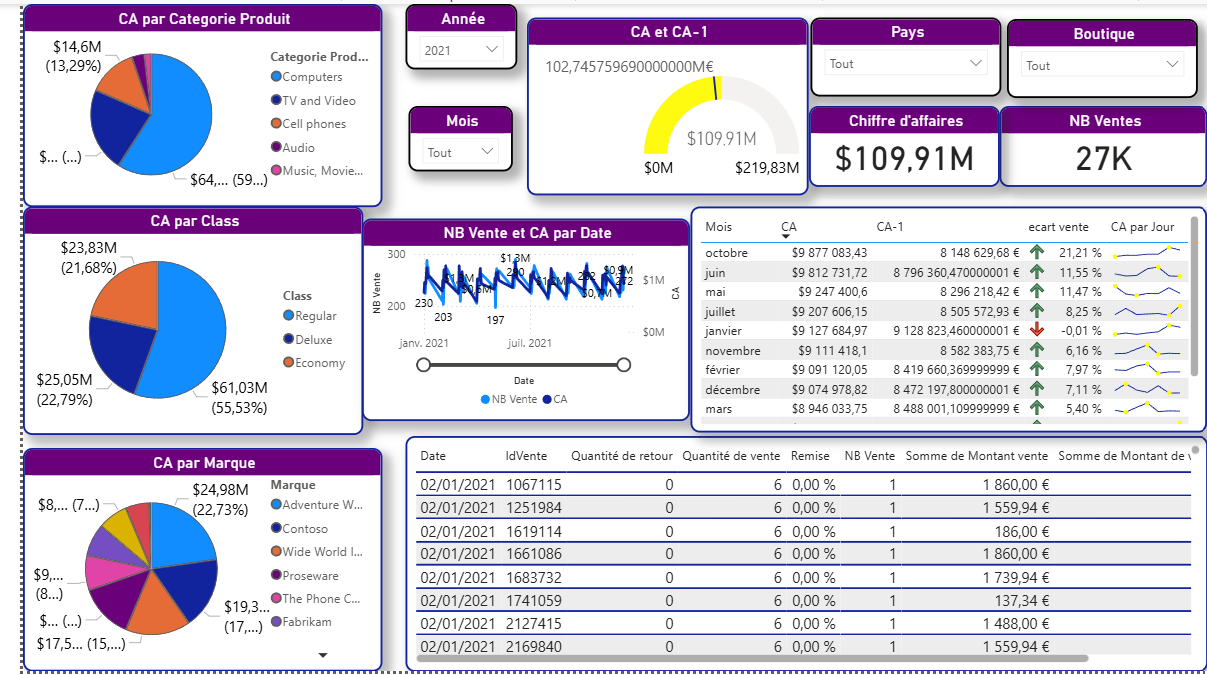

This screenshot's page, from the dashboard's own definition file:
{"tool":"powerbi","page":{"name":"Ventes","canvas":[1280,720],"ordinal":2},"visuals":[{"type":"pieChart","fields":{"Y":["Sales.CA"],"Category":["Categorie Produits.Categorie Produit"]},"box":[0,0,388.1,219.1],"z":0},{"type":"pieChart","fields":{"Y":["Sales.CA"],"Category":["Produits.Class"]},"box":[0,219.1,367.7,247],"z":1000},{"type":"pieChart","fields":{"Y":["Sales.CA"],"Category":["Produits.Marque"]},"box":[0,479.1,388.1,241.4],"z":2000},{"type":"slicer","title":"Année","fields":{"Values":["DateTable.Année"]},"box":[412.5,0,120.8,70.8],"z":3000},{"type":"slicer","title":"Mois","fields":{"Values":["DateTable.Mois"]},"box":[416.7,110.4,112.5,70.8],"z":4000},{"type":"tableEx","fields":{"Values":["DateTable.Date","Sales.IdVente","Sales.Quantité de retour","Sales.Quantité de vente","Sales.Remise","Sales.NB Vente","Sum(Sales.Montant vente)","Sum(Sales.Montant de vente apres la remise)"]},"box":[412.2,466.1,867.2,254.4],"z":5000},{"type":"lineChart","fields":{"Y":["Sales.NB Vente"],"Y2":["Sales.CA"],"Category":["DateTable.Date"]},"box":[366.7,231.2,354.2,218.8],"z":6000},{"type":"gauge","fields":{"Y":["Sales.CA"],"TargetValue":["Sales.CA-1"]},"box":[544.1,14.6,304.4,204],"z":7000},{"type":"tableEx","fields":{"Values":["DateTable.Mois","Sales.CA","Sales.CA-1","Sales.ecart vente","SparklineData(Sales.CA_[DateTable.Jour])"]},"box":[720.8,218.8,558.3,243.8],"z":8000},{"type":"card","title":"NB Ventes","fields":{"Values":["Sales.NB Vente"]},"box":[1054.2,110.4,225,87.5],"z":9000},{"type":"card","title":"Chiffre d''affaires","fields":{"Values":["Sales.CA"]},"box":[847.9,110.4,206.2,87.5],"z":10000},{"type":"slicer","title":"Pays","fields":{"Values":["Geographie.Pays"]},"box":[850,14.6,206.2,85.4],"z":11000},{"type":"slicer","title":"Boutique","fields":{"Values":["Boutiques.Boutique"]},"box":[1062.5,16.7,206.2,85.4],"z":12000}]}

Visuals, with their boxes in screenshot pixels (x1, y1, x2, y2), scaled from the page's 1280x720 canvas onto the 1207x675 screenshot:
pieChart - Sales.CA x Categorie Produits.Categorie Produit: detection(0, 0, 366, 205)
pieChart - Sales.CA x Produits.Class: detection(0, 205, 347, 437)
pieChart - Sales.CA x Produits.Marque: detection(0, 449, 366, 674)
"Année" slicer: detection(389, 0, 503, 66)
"Mois" slicer: detection(393, 104, 499, 170)
tableEx - DateTable.Date x Sales.IdVente: detection(389, 437, 1206, 674)
lineChart - Sales.NB Vente x Sales.CA: detection(346, 217, 680, 422)
gauge - Sales.CA x Sales.CA-1: detection(513, 14, 800, 205)
tableEx - DateTable.Mois x Sales.CA: detection(680, 205, 1206, 434)
"NB Ventes" card: detection(994, 104, 1206, 186)
"Chiffre d''affaires" card: detection(800, 104, 994, 186)
"Pays" slicer: detection(802, 14, 996, 94)
"Boutique" slicer: detection(1002, 16, 1196, 96)
